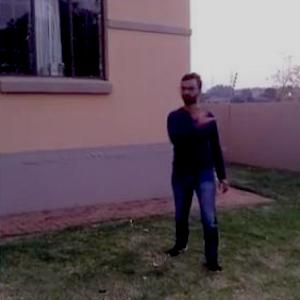follow_hand: (193, 99, 218, 128)
